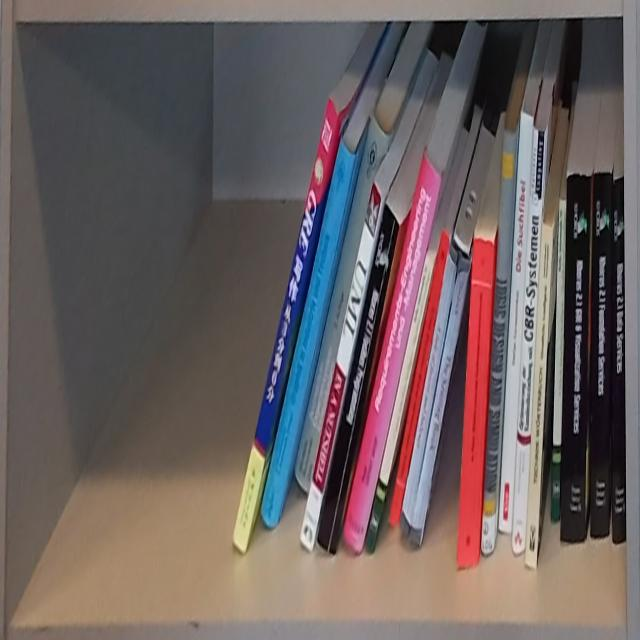Book Spine: (231, 97, 339, 558), (344, 148, 443, 555), (260, 133, 356, 531), (294, 112, 389, 495), (297, 182, 384, 552), (315, 204, 398, 558), (365, 254, 435, 554), (388, 230, 452, 528), (408, 257, 471, 550), (399, 244, 457, 542), (480, 129, 517, 556), (497, 112, 534, 536), (511, 128, 547, 560), (455, 237, 494, 569), (561, 173, 590, 546), (524, 222, 554, 572), (592, 171, 613, 539), (611, 175, 627, 546), (550, 198, 566, 524)
